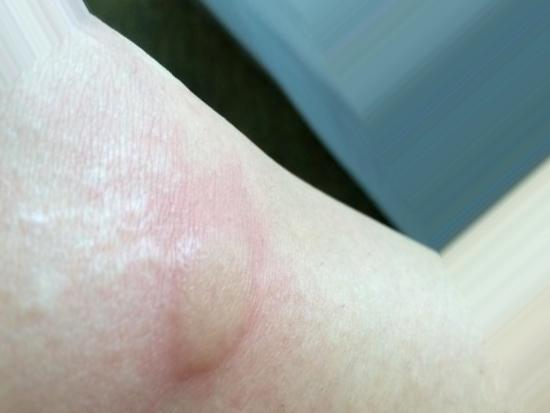Mosquito: (163, 238, 260, 386)
